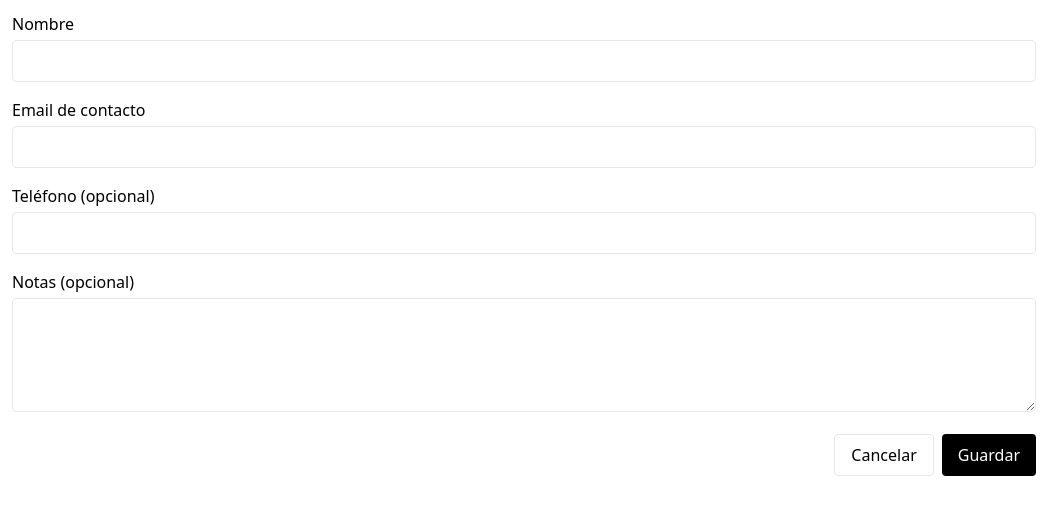
ClienteForm › shows email format error
Type "X" into the field labelled "Nombre" at (524,61), box [12,40,1036,82]
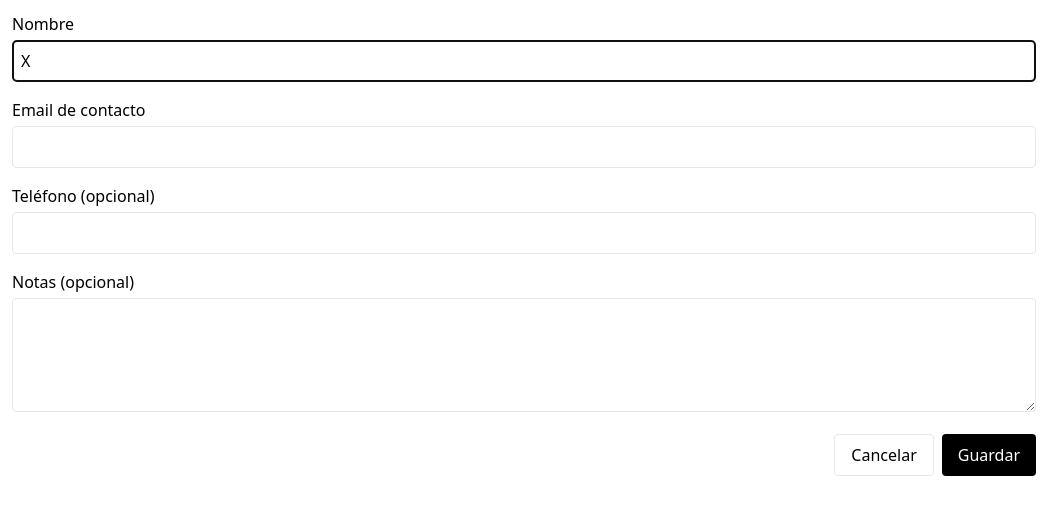
Type "no-es-email" into the field labelled "Email de contacto" at (524,147), box [12,126,1036,168]
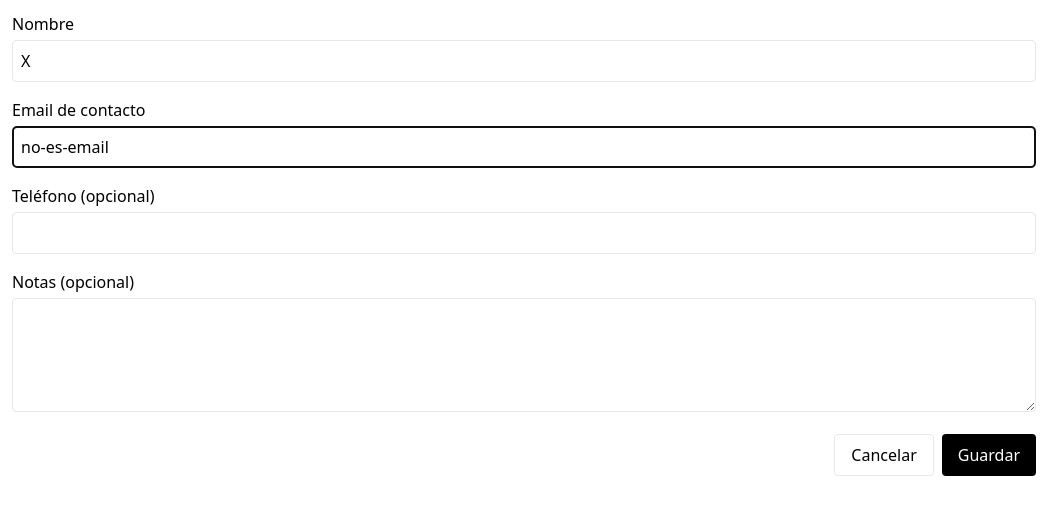
Click the button "Guardar" at (989,455), box [942,434,1036,476]
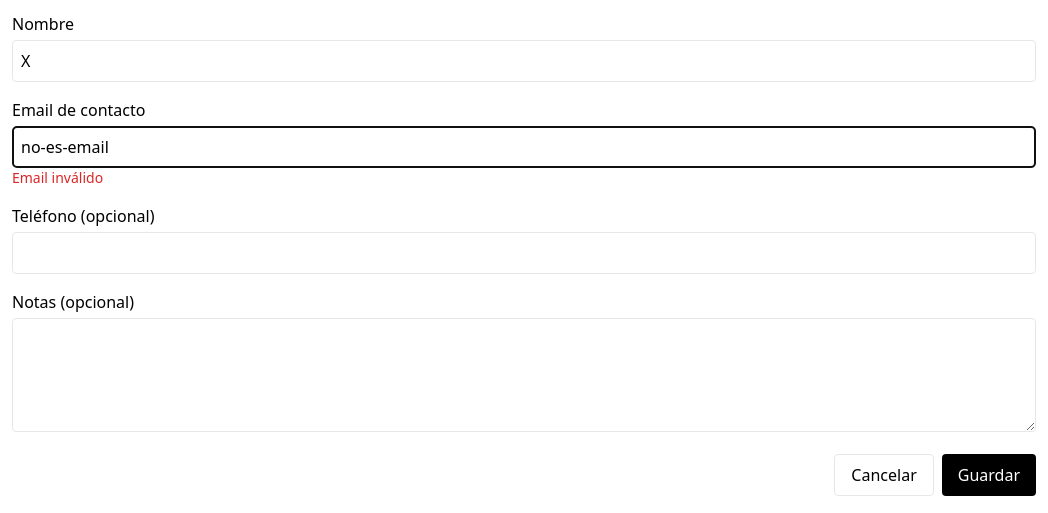
Expected: the text "Email inválido" is shown, [12,168,103,187]
